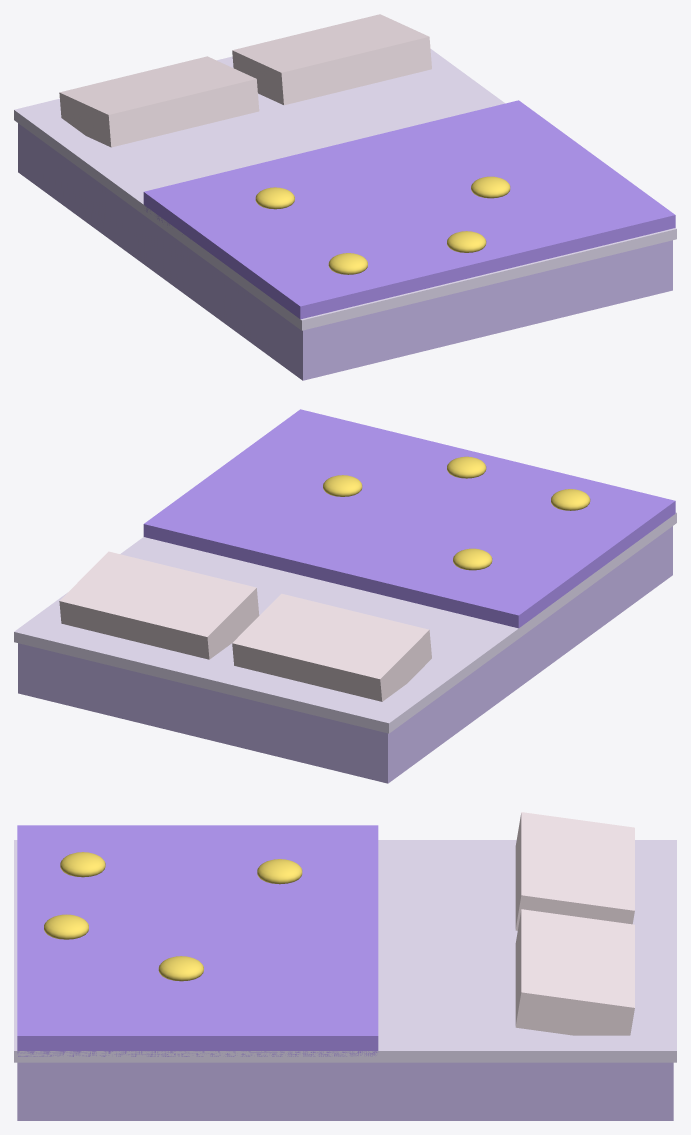
File: mattress_cute_1.glb
3 views of the same model, one above another, from view 1: azimuth 30°, elevation 25°; view 2: azimuth 150°, elevation 25°; view 3: azimuth 270°, elevation 25° (orthographic). The views are drawn at different scales.
Bounding box in the file's own units: 1.52 × 0.3855 × 2.02.
